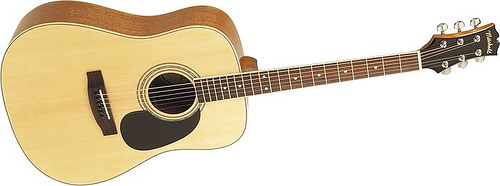guitar: (1, 1, 500, 186)
